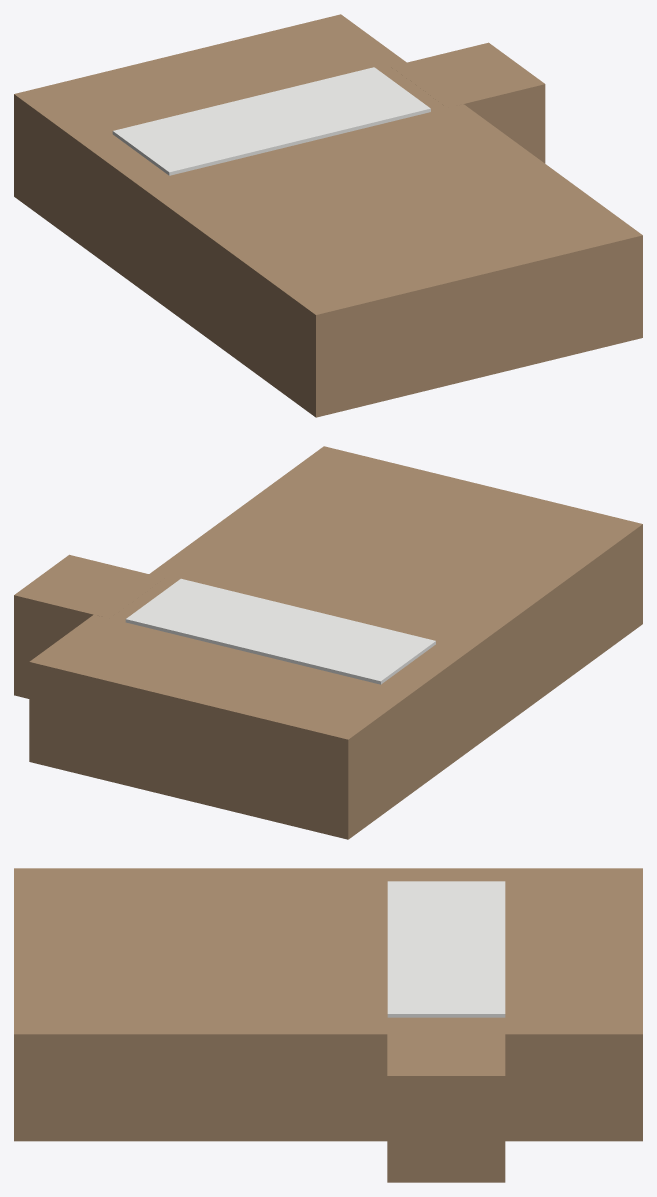
File: bed_nightstand.glb
The picture shows the model from 3 angles, top to bottom: view 1: azimuth 30°, elevation 25°; view 2: azimuth 150°, elevation 25°; view 3: azimuth 270°, elevation 25°; orthographic projection. The views are drawn at different scales.
Visible parts, largest first — view 1: bed, pillow, stand; view 2: bed, pillow, stand; view 3: bed, stand, pillow.
Boxes of the visible parts, x1,y1,x2,y2 form: bed: (14,14,642,417); pillow: (112,67,430,175); stand: (391,42,545,163); bed: (29,446,642,839); pillow: (125,578,435,684); stand: (14,554,164,698); bed: (14,868,642,1141); stand: (387,1026,505,1182); pillow: (387,881,505,1017).
Bounding box in the file's own units: 2.5 × 0.6202 × 3.2.
